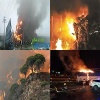fire: (67, 17, 78, 39), (77, 68, 94, 80), (7, 66, 16, 88), (14, 21, 23, 42), (18, 70, 25, 85), (55, 39, 63, 50), (26, 67, 32, 78), (33, 66, 42, 73), (0, 90, 5, 100), (48, 64, 50, 73)
